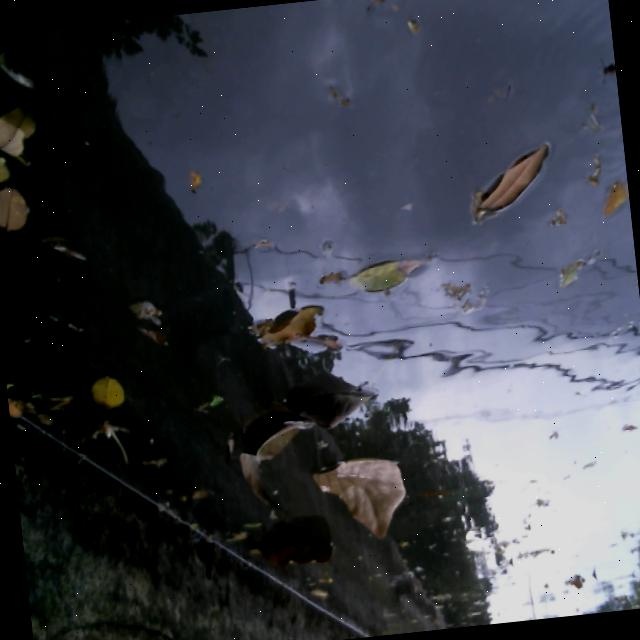Big-leaf: (225, 374, 387, 514), (317, 442, 423, 549), (242, 276, 340, 365), (240, 520, 337, 583)
Small-leaf: (449, 136, 571, 237), (346, 246, 440, 315), (112, 271, 182, 357), (86, 366, 137, 446), (591, 147, 632, 233), (0, 172, 43, 246), (0, 91, 41, 162), (0, 136, 28, 189), (296, 572, 331, 609)
